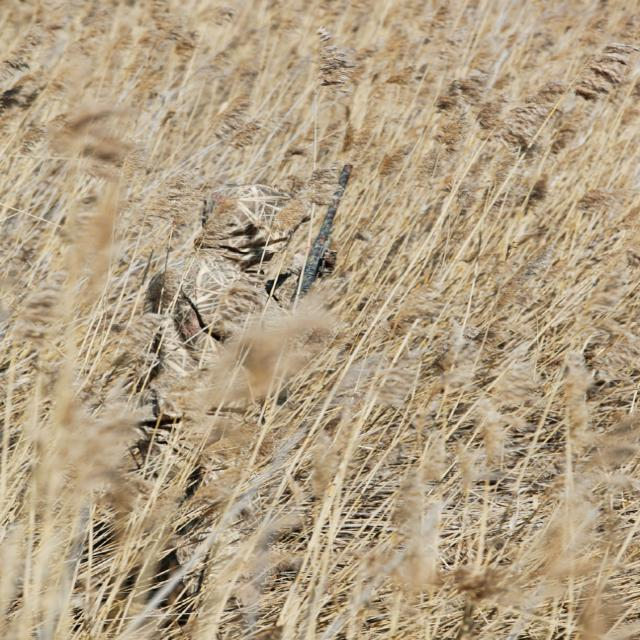Camouflage: (133, 161, 348, 620)
